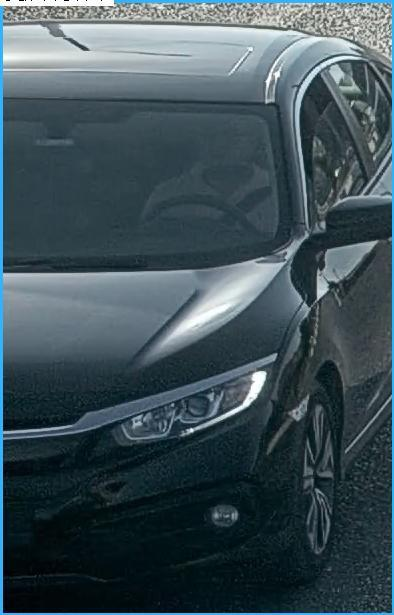windshield: (5, 92, 295, 280)
